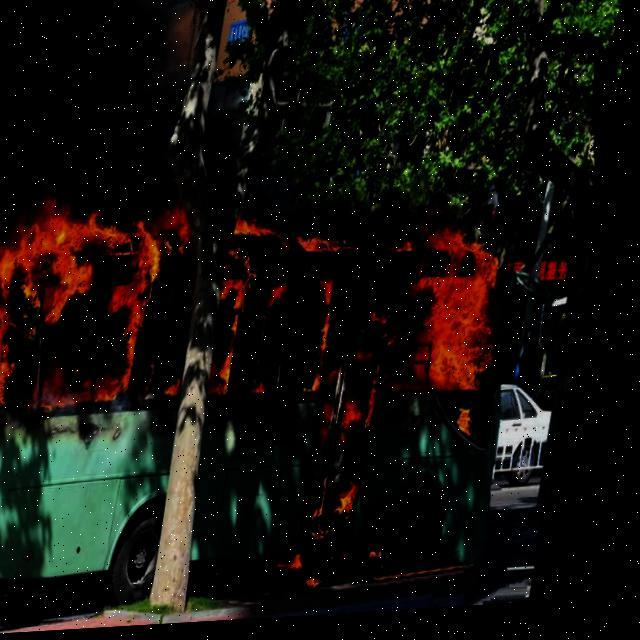Fire: (0, 150, 545, 602)
